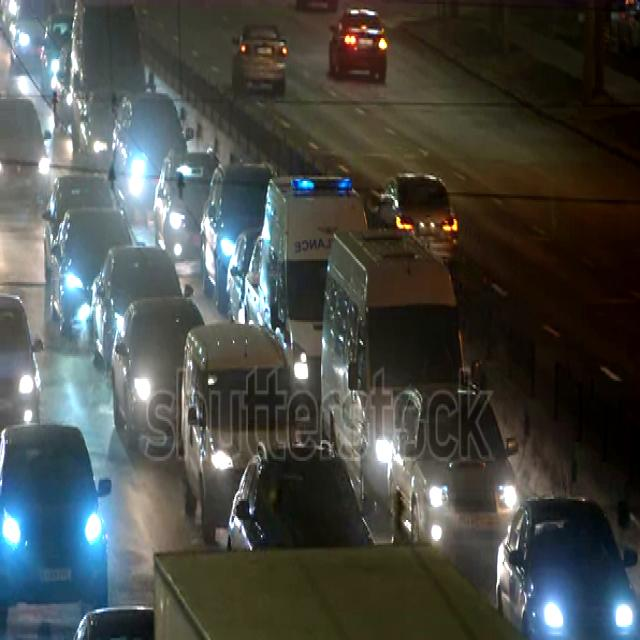ambulance: (258, 172, 374, 416)
